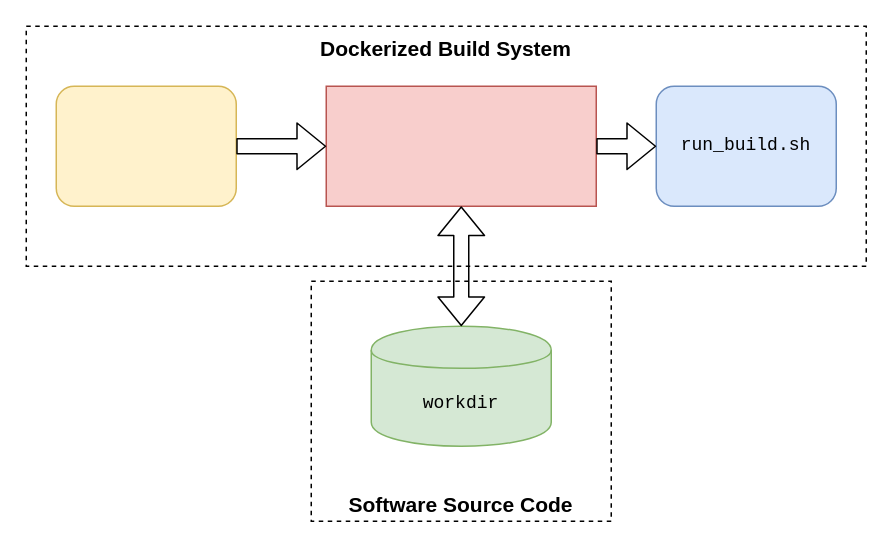
The diagram is 893 pixels wide and 548 high, and some of its shapes have lost their labels. Each missing label, with the centre of its shape:
build.sh shell.sh: the point at 145,145
Dockerfile build_docker_image.sh: the point at 460,145
